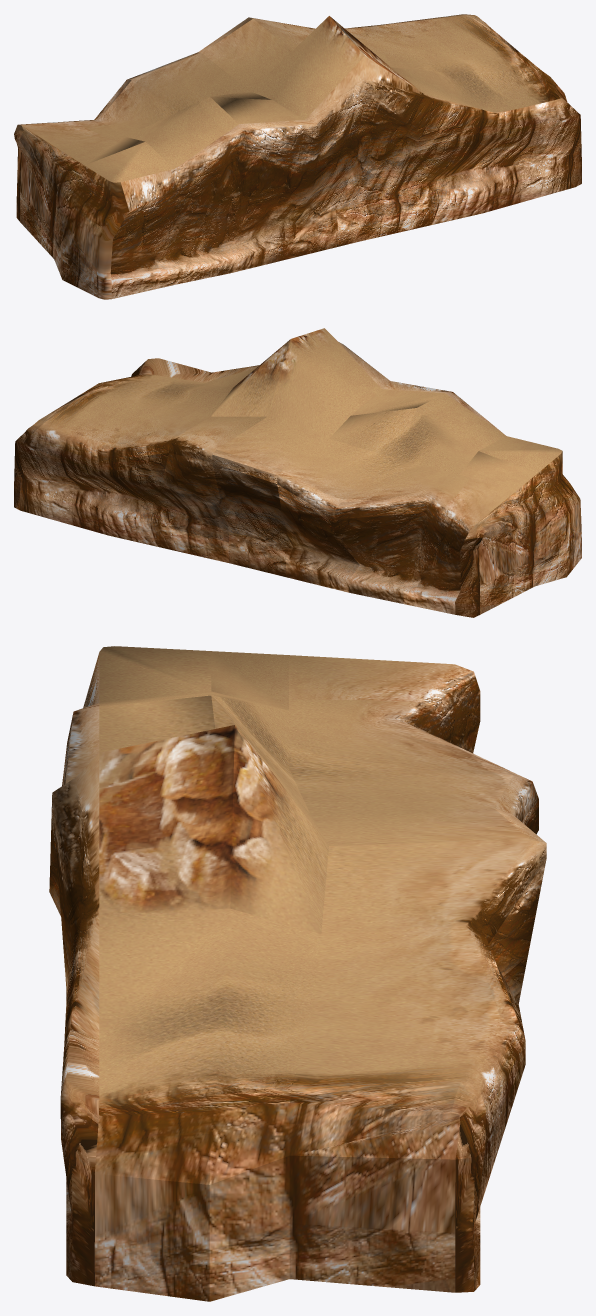
File: grounddesrock_sameclose.FBX
3 renders of one model, top to bottom at view 1: azimuth 30°, elevation 25°; view 2: azimuth 150°, elevation 25°; view 3: azimuth 270°, elevation 25°, orthographic. The views are drawn at different scales.
Visible parts, largest first — view 1: Plane003; view 2: Plane003; view 3: Plane003.
Part boxes in pixels (x1,y1,x2,y2): Plane003: (14,14,581,299); Plane003: (14,328,581,617); Plane003: (49,646,546,1301).
Size of the model in its own units: 2961 by 1071 by 1311.
